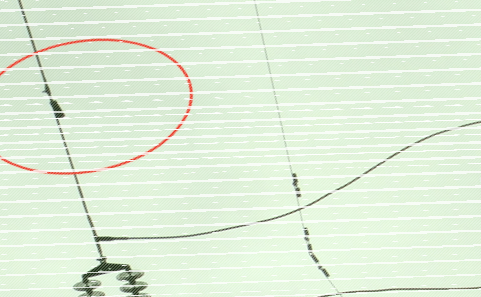damper_defect: (41, 80, 65, 120)
